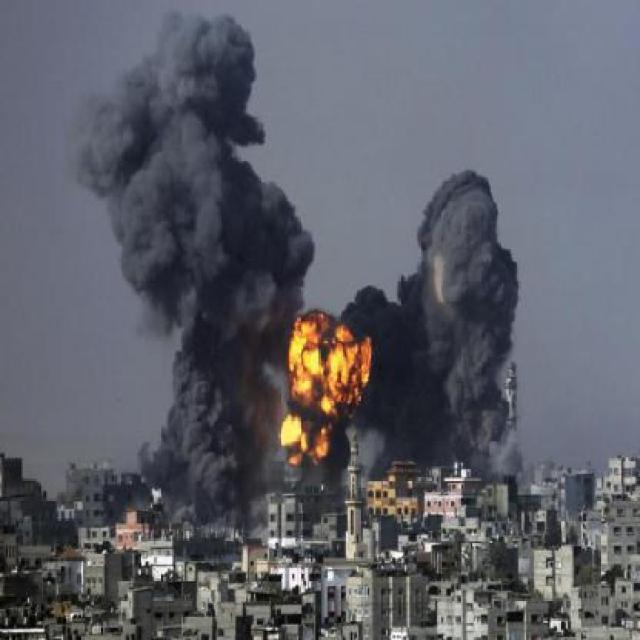Fire: (275, 306, 377, 474)
Smoke: (431, 172, 520, 471), (168, 288, 276, 518), (151, 17, 260, 158), (162, 157, 255, 296), (373, 270, 433, 473), (93, 89, 162, 218), (260, 186, 316, 302), (111, 217, 167, 296), (357, 284, 385, 318)
